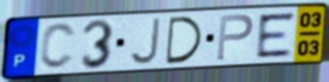3: (80, 18, 117, 71)
C: (37, 22, 78, 72)
D: (165, 15, 205, 66)
E: (255, 10, 297, 60)
J: (127, 17, 162, 67)
P: (215, 12, 256, 62)
